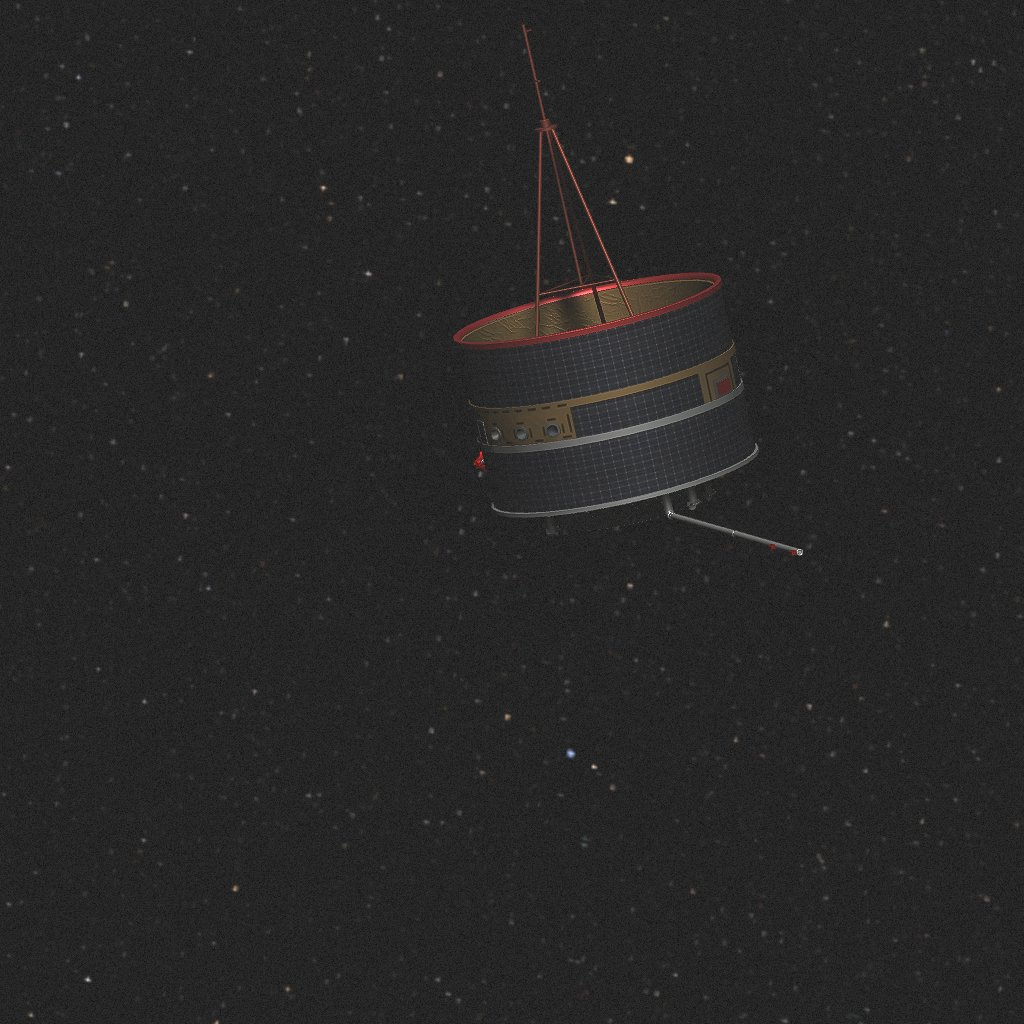double_star: (453, 24, 803, 556)
